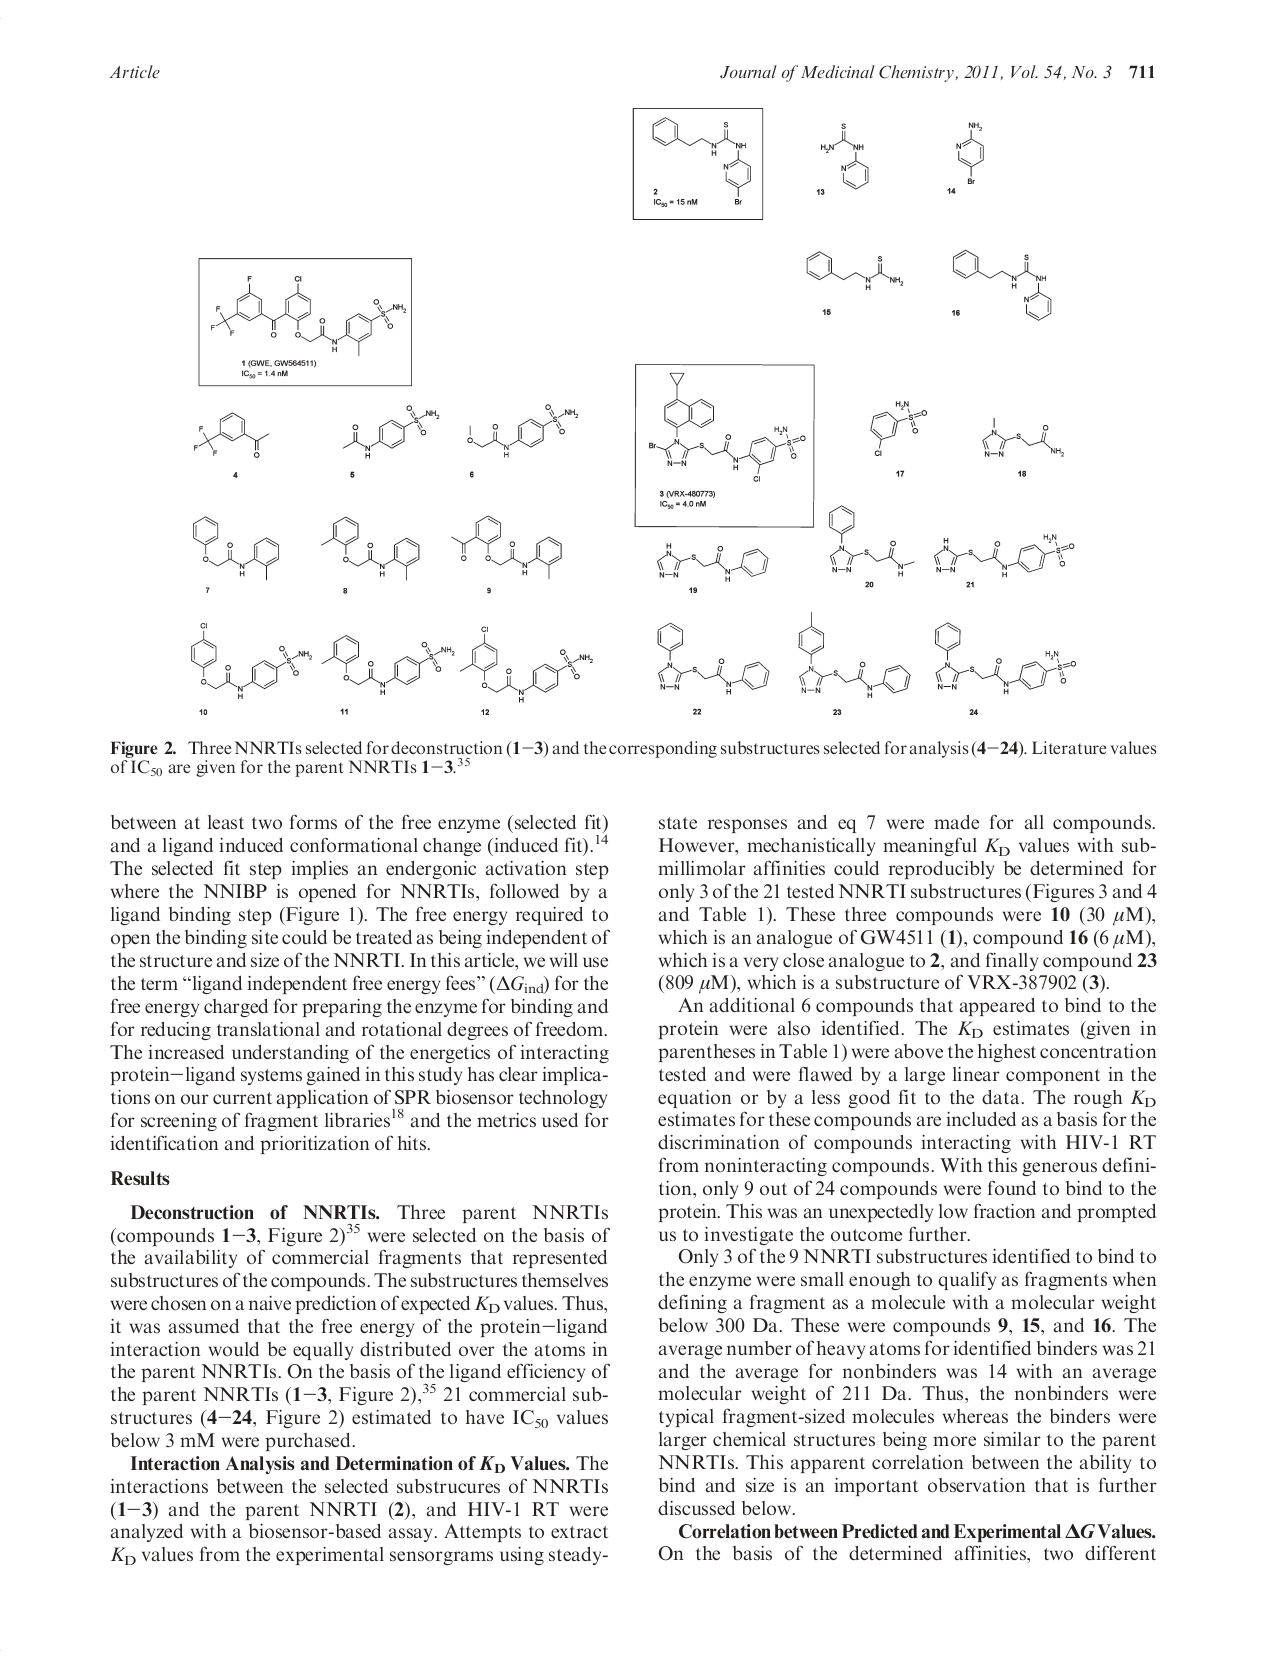exist_molecular: (645, 368, 809, 483), (207, 273, 410, 356), (931, 620, 1080, 696), (460, 624, 594, 702), (795, 610, 911, 700), (188, 620, 313, 700), (649, 114, 753, 207), (654, 620, 773, 697), (319, 634, 455, 696), (949, 246, 1055, 321), (318, 512, 422, 584), (449, 515, 565, 578), (824, 501, 916, 577), (931, 531, 1075, 578), (188, 509, 283, 580), (465, 403, 578, 457), (340, 403, 442, 459), (656, 540, 770, 582), (802, 247, 907, 291), (191, 410, 271, 460), (980, 415, 1069, 460), (818, 118, 872, 189), (868, 398, 927, 456), (953, 118, 989, 188)
